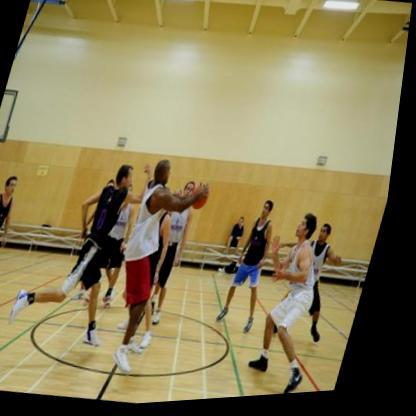basketball: (194, 187, 217, 213)
